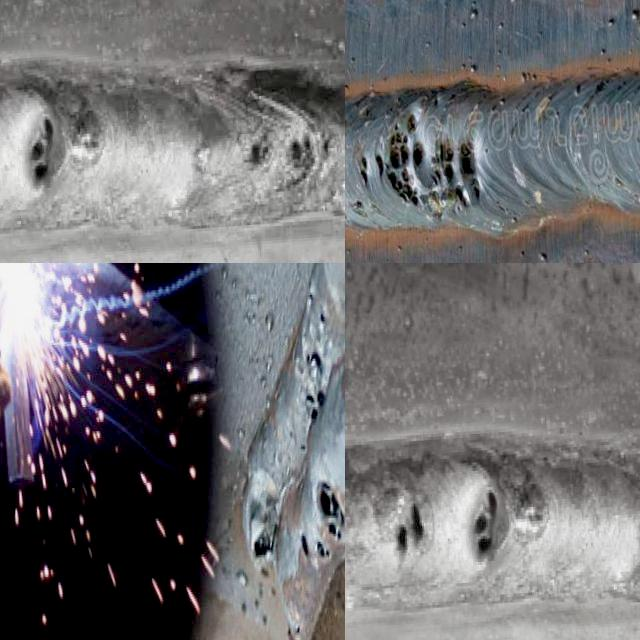defect: (466, 468, 513, 575), (373, 112, 424, 209), (294, 479, 345, 568), (388, 485, 432, 576), (428, 139, 482, 210), (24, 106, 58, 196), (248, 490, 281, 564), (282, 129, 332, 175), (240, 131, 278, 179), (304, 387, 326, 428), (305, 344, 324, 378), (357, 156, 369, 189), (293, 619, 301, 638), (299, 442, 308, 457), (290, 429, 297, 447), (319, 311, 326, 328), (309, 293, 313, 303)
